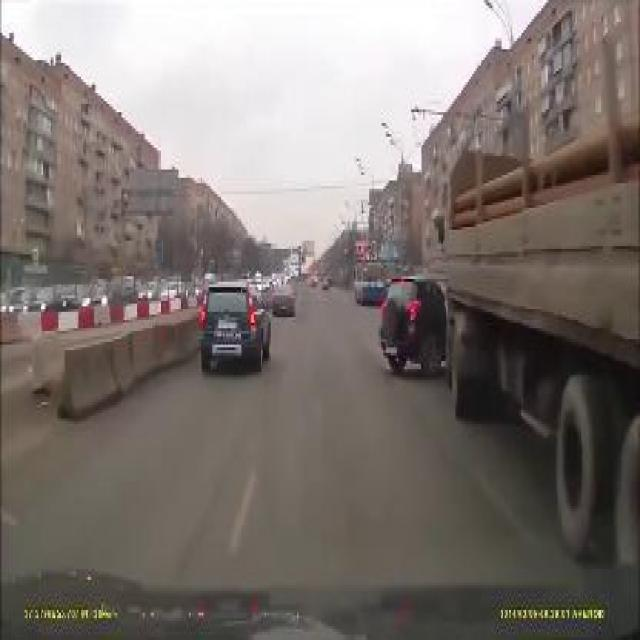accident: (377, 112, 638, 574)
